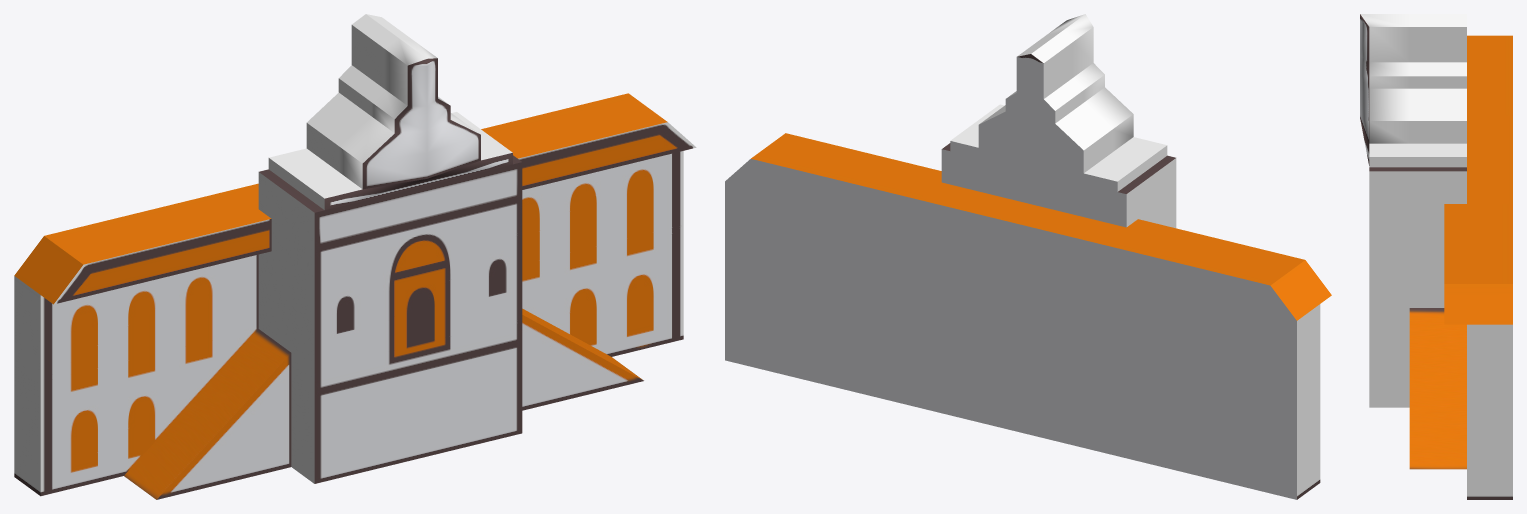
The model's file is Queen.fbx.
3 renders of one model, left to right at view 1: azimuth 30°, elevation 25°; view 2: azimuth 150°, elevation 25°; view 3: azimuth 270°, elevation 25°, orthographic. The views are drawn at different scales.
Parts seen in each view (by area): view 1: polySurface15; view 2: polySurface15; view 3: polySurface15.
Part boxes in pixels (bbox=[...]): polySurface15: bbox=[14, 14, 696, 499]; polySurface15: bbox=[725, 14, 1331, 499]; polySurface15: bbox=[1360, 14, 1512, 499].
Size of the model in its own units: 6.2 by 3.71 by 1.46.
